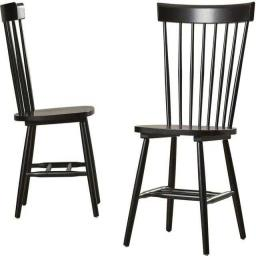Chair: (124, 4, 255, 256), (0, 3, 100, 216)
